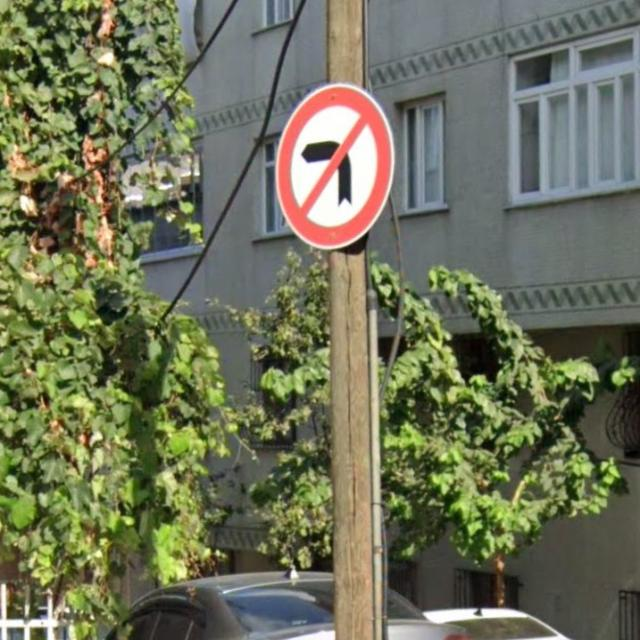soladonulmez: (275, 84, 395, 248)
